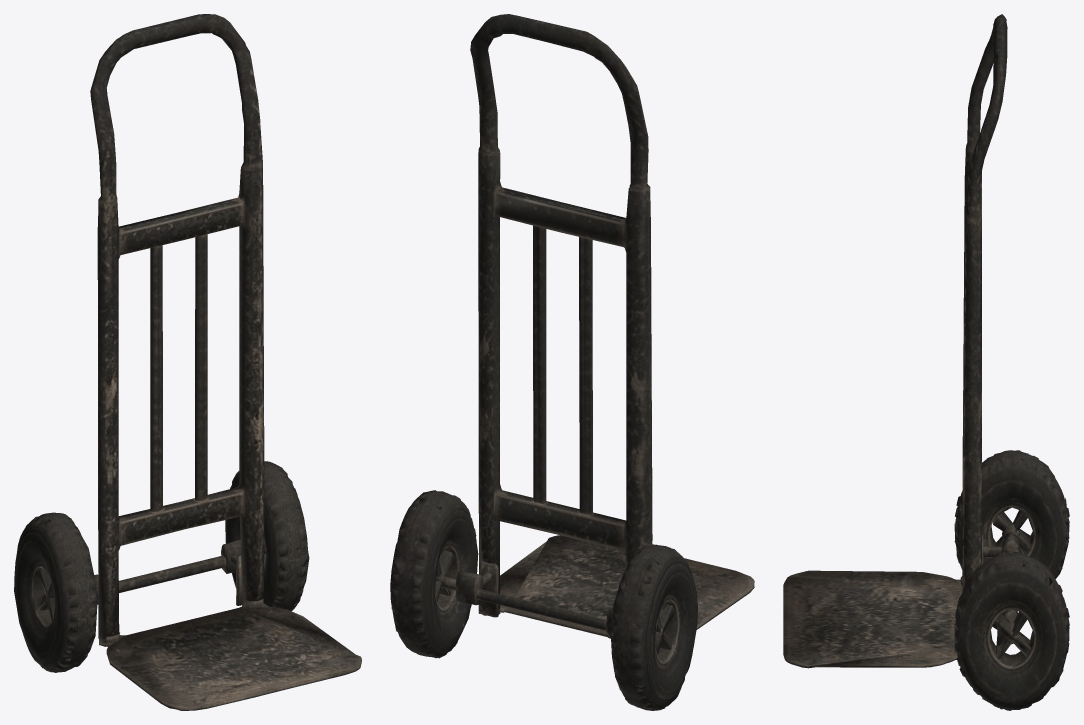
File: p7-hand-truck-t25.glb
The picture shows the model from 3 angles, left to right: view 1: azimuth 30°, elevation 25°; view 2: azimuth 150°, elevation 25°; view 3: azimuth 270°, elevation 25°; orthographic projection. The views are drawn at different scales.
Parts seen in each view (by area): view 1: p7-hand-truck-t25; view 2: p7-hand-truck-t25; view 3: p7-hand-truck-t25.
Boxes of the visible parts, box(x1,y1,x2,y2) form: p7-hand-truck-t25: box(14, 14, 361, 710); p7-hand-truck-t25: box(390, 14, 754, 710); p7-hand-truck-t25: box(783, 14, 1069, 710).
Size of the model in its own units: 0.5 by 1.2 by 0.5.
1 material, 1 textured.
